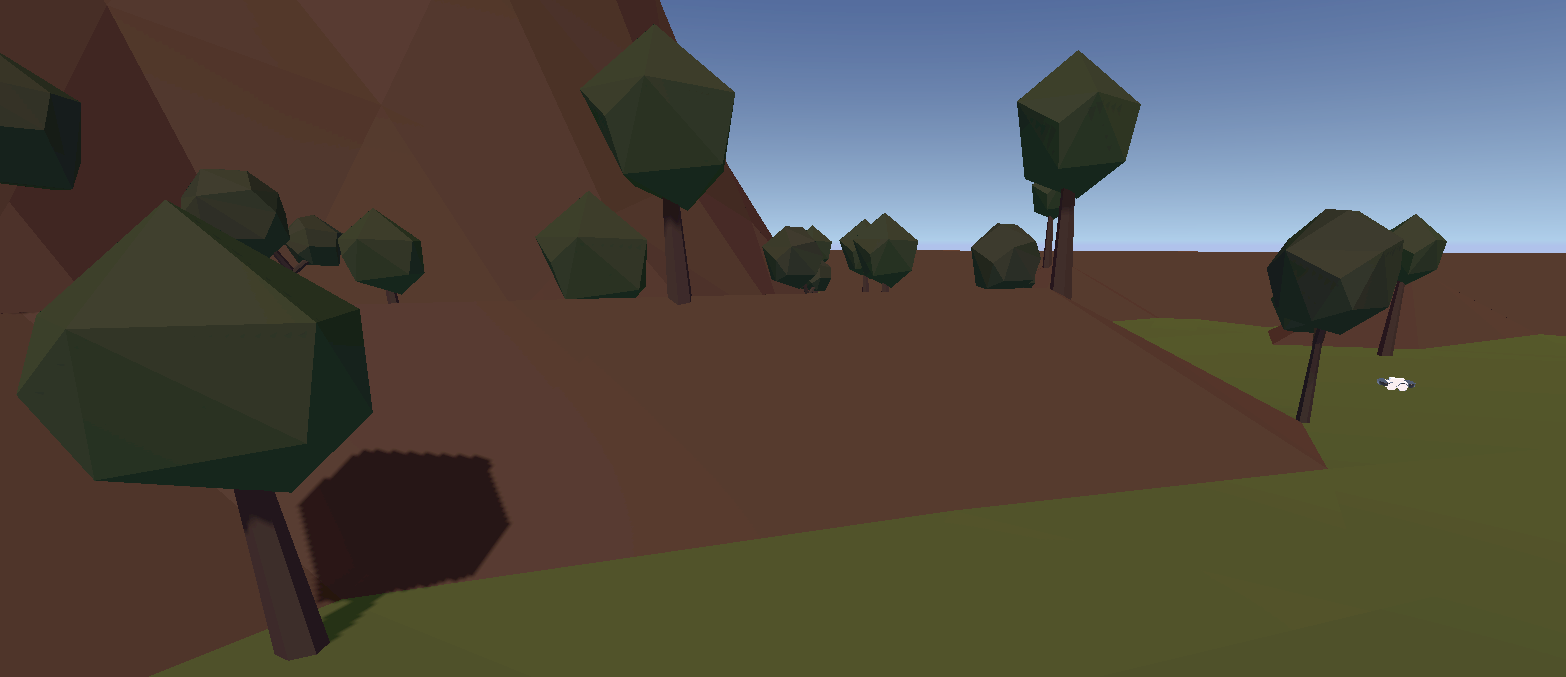tree: (17, 194, 396, 663), (579, 19, 744, 282), (1265, 206, 1405, 429), (177, 165, 343, 287), (526, 191, 650, 294), (1, 46, 87, 194), (1374, 210, 1447, 361), (343, 210, 432, 301), (844, 210, 939, 287), (756, 222, 840, 295), (967, 216, 1042, 286), (1024, 173, 1062, 272)
